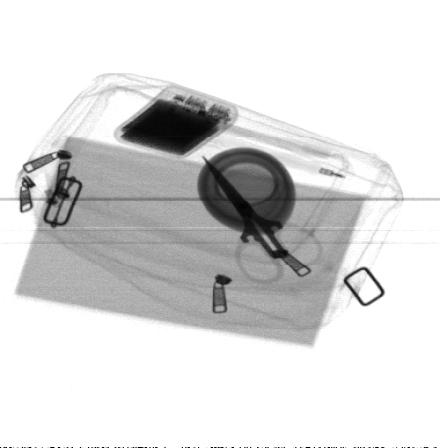Powerbank: (111, 85, 241, 158)
Scissors: (201, 154, 326, 285)
